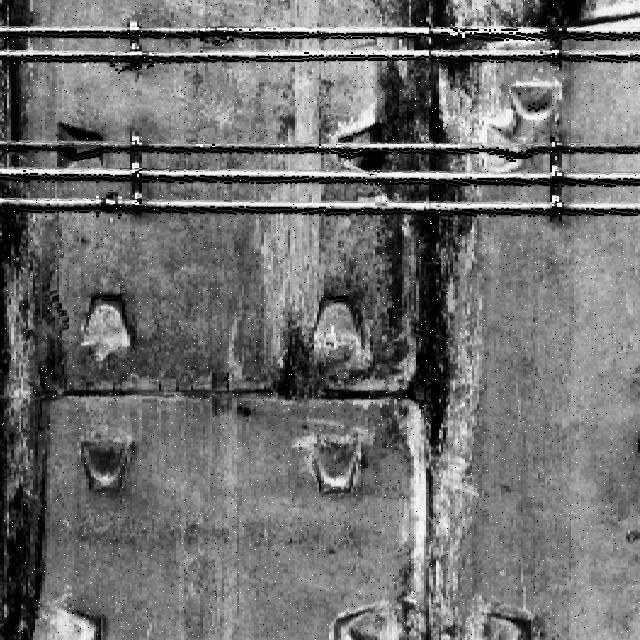leakage: (366, 3, 492, 640), (0, 3, 73, 640), (249, 68, 342, 411), (522, 1, 598, 58)
